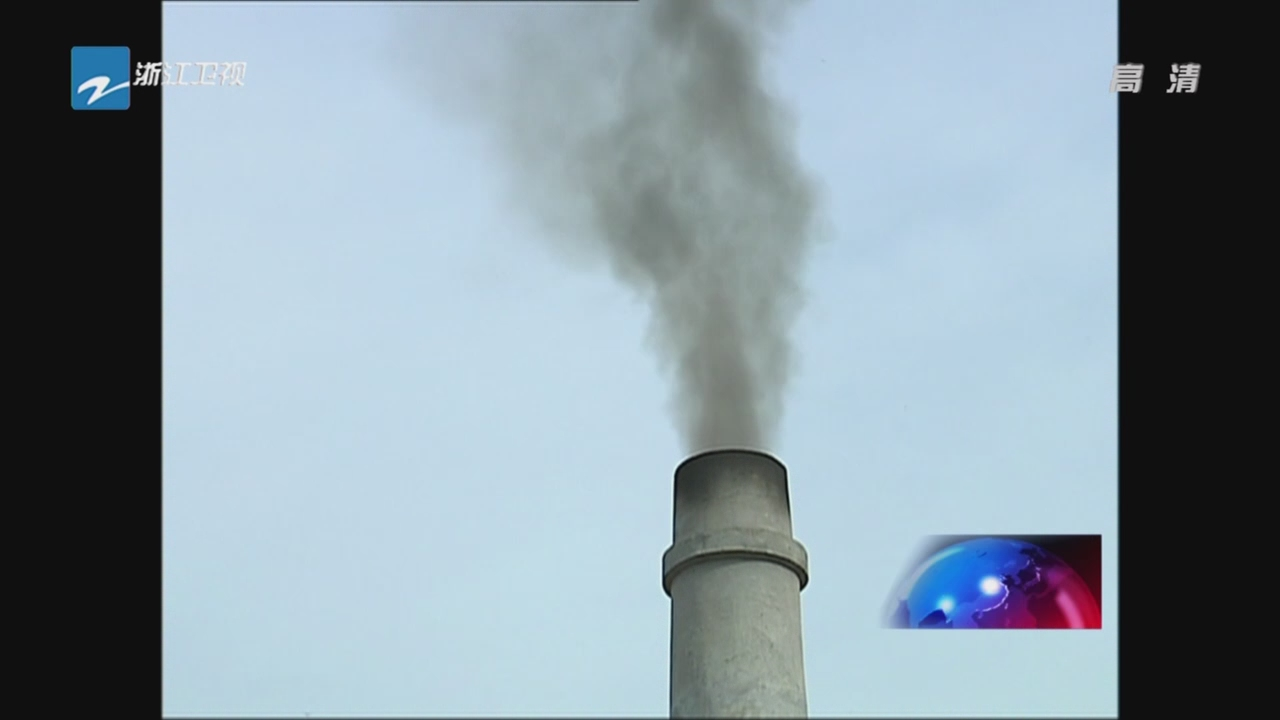dust: (537, 117, 839, 479)
